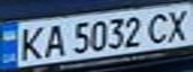0: (87, 17, 109, 52)
2: (121, 12, 148, 48)
3: (106, 16, 127, 51)
5: (66, 19, 90, 55)
A: (39, 21, 69, 59)
C: (142, 9, 175, 45)
K: (12, 24, 48, 62)
X: (160, 6, 193, 43)
